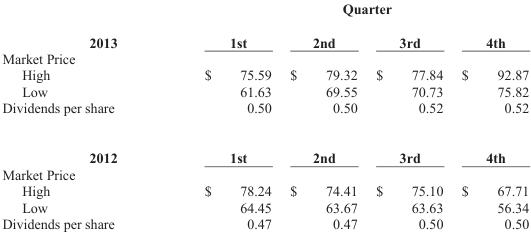table: (1, 0, 528, 231)
table column: (1, 0, 160, 231), (160, 0, 280, 231), (365, 0, 451, 231), (280, 0, 365, 231), (451, 0, 528, 231)
table column header: (1, 0, 528, 50)
table projected row header: (1, 165, 528, 182), (1, 50, 528, 66)
table row: (1, 99, 528, 132), (1, 132, 528, 165), (1, 0, 528, 25), (1, 25, 528, 50), (1, 82, 528, 99), (1, 165, 528, 182), (1, 198, 528, 215), (1, 50, 528, 66), (1, 66, 528, 82), (1, 182, 528, 198), (1, 215, 528, 231)
table spanning cell: (160, 0, 528, 25), (1, 0, 160, 50)
